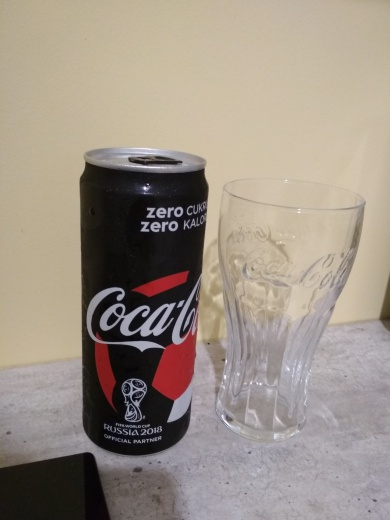colazero: (71, 136, 209, 462)
